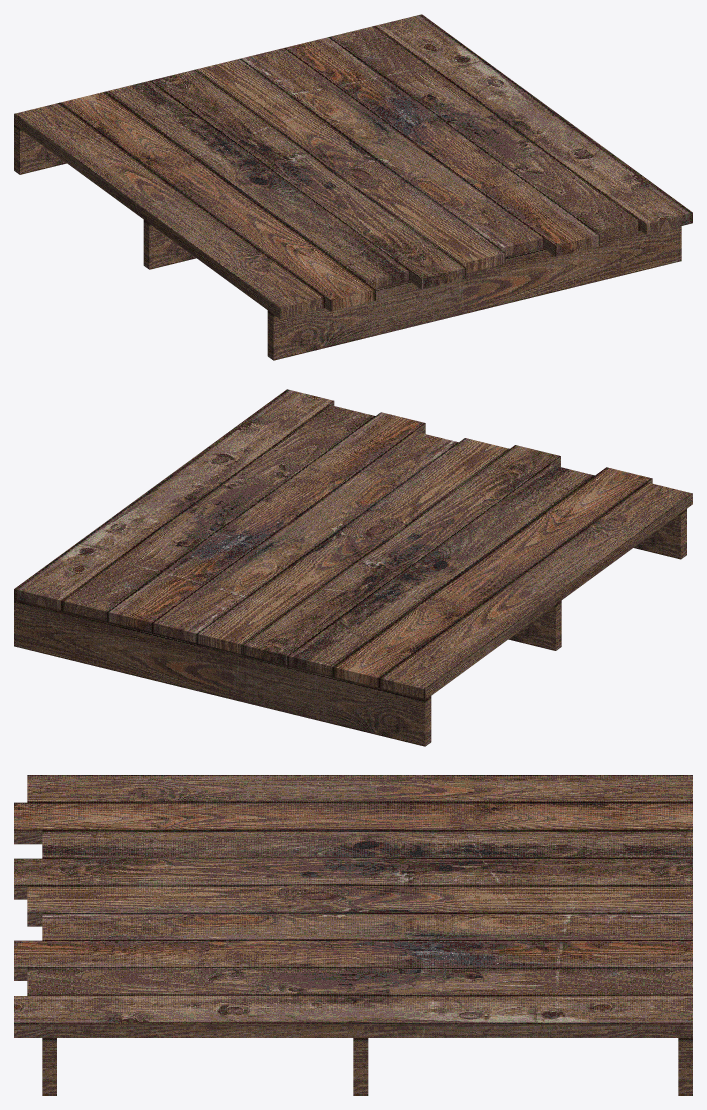
File: floor-porch-M.glb
The picture shows the model from 3 angles, top to bottom: view 1: azimuth 30°, elevation 25°; view 2: azimuth 150°, elevation 25°; view 3: azimuth 270°, elevation 25°; orthographic projection. The views are drawn at different scales.
Visible parts, largest first — view 1: floor-porch-M.001; view 2: floor-porch-M.001; view 3: floor-porch-M.001.
Boxes of the visible parts, x1,y1,x2,y2 form: floor-porch-M.001: (14,14,692,360); floor-porch-M.001: (14,389,692,746); floor-porch-M.001: (14,775,692,1095).
Bounding box in the file's own units: 2 × 0.2661 × 2.3.
Materials: 1 (1 with a texture image).
